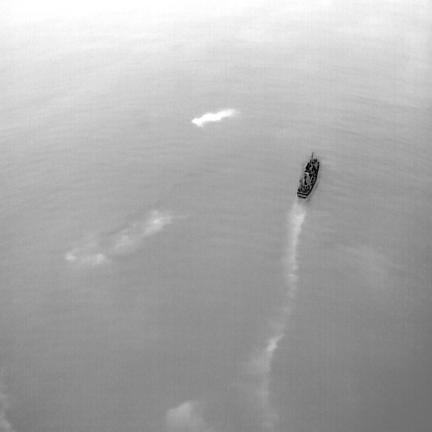flukeprints: (191, 109, 238, 127)
